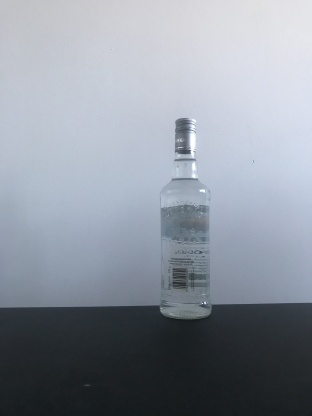nakretka: (173, 116, 197, 154)
